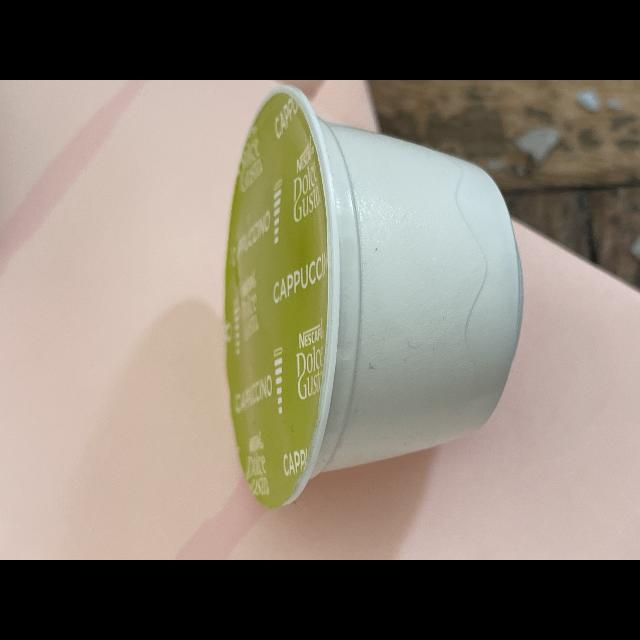intact_capsule: (214, 80, 546, 526)
